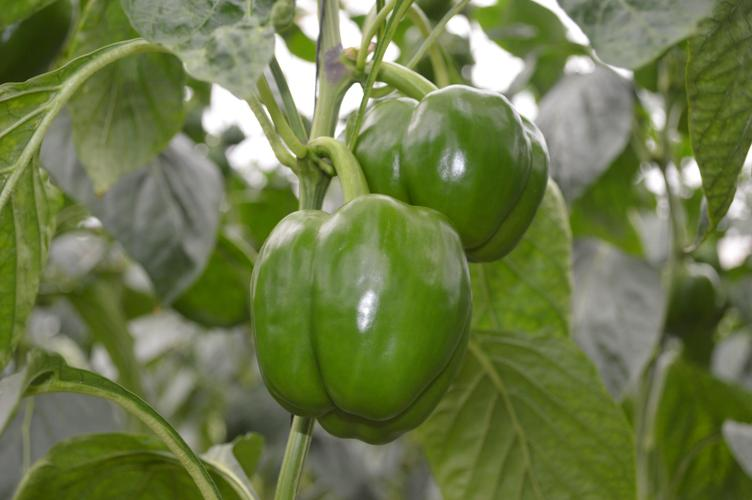BellPepper: (233, 199, 467, 444), (343, 89, 544, 262)
